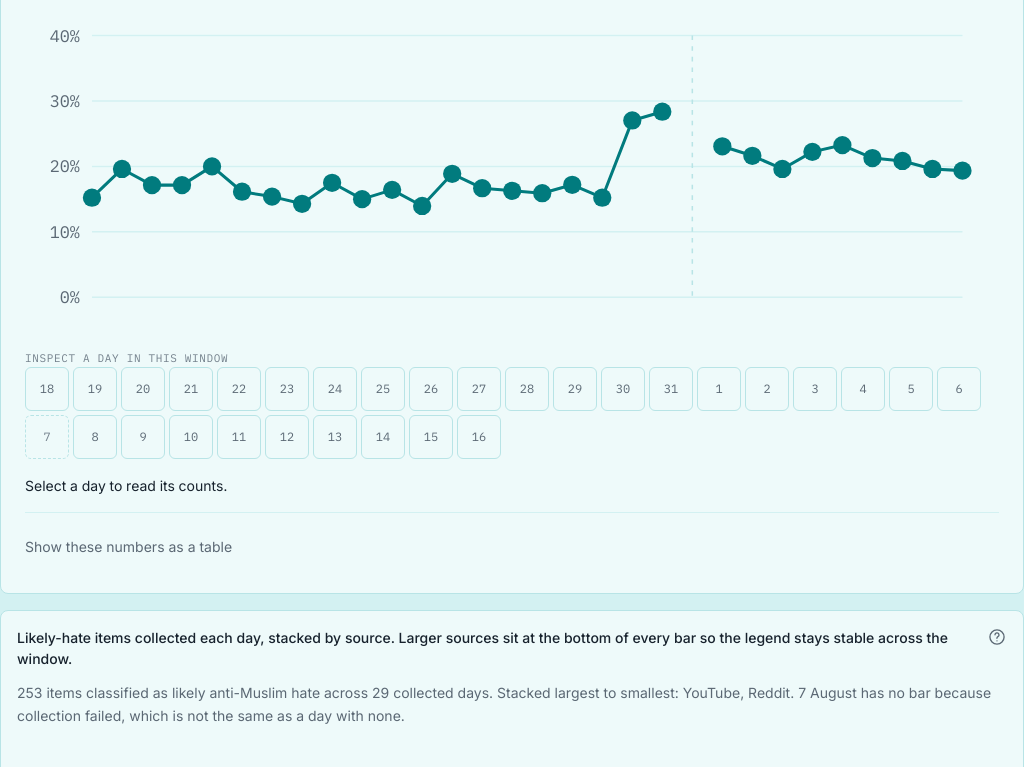
Test case: OverviewPage › reads out a selected day with its counts
(page scrolled)
What coordinates should you click on to do the following:
click the button named "16 august"
I would click on:
 (479, 437)
Its box is [457,415,501,459].
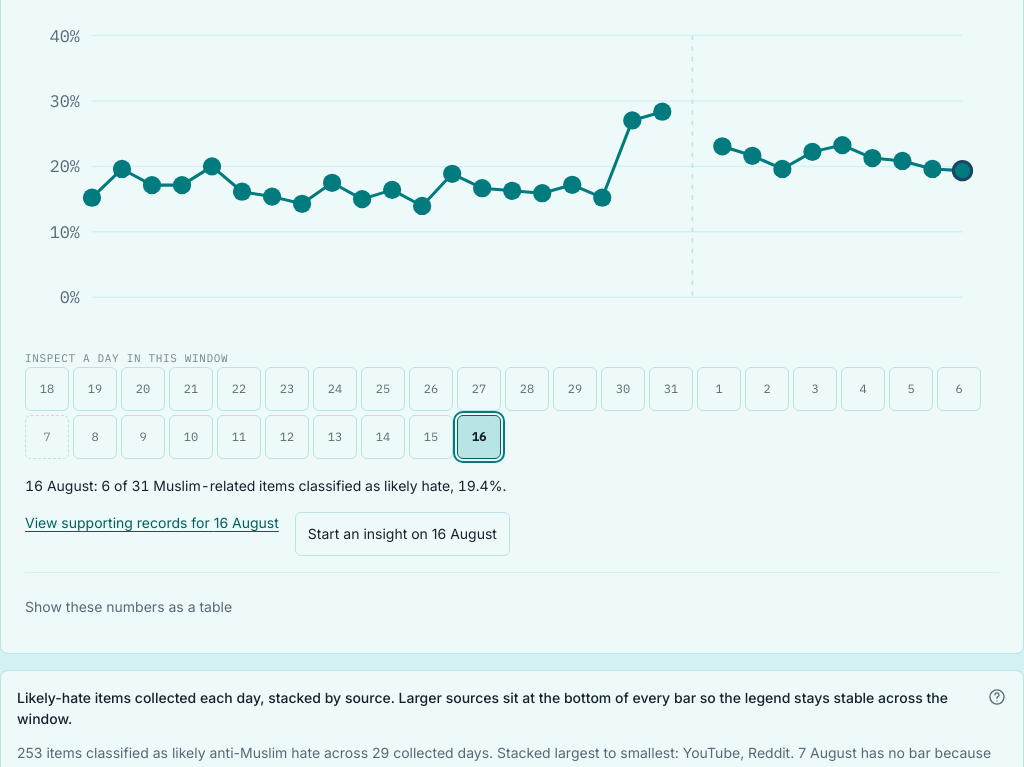
Expected: the text "16 August: 6 of 31 Muslim-related items classified as likely hate, 19.4%" is shown, [25,477,506,494]
